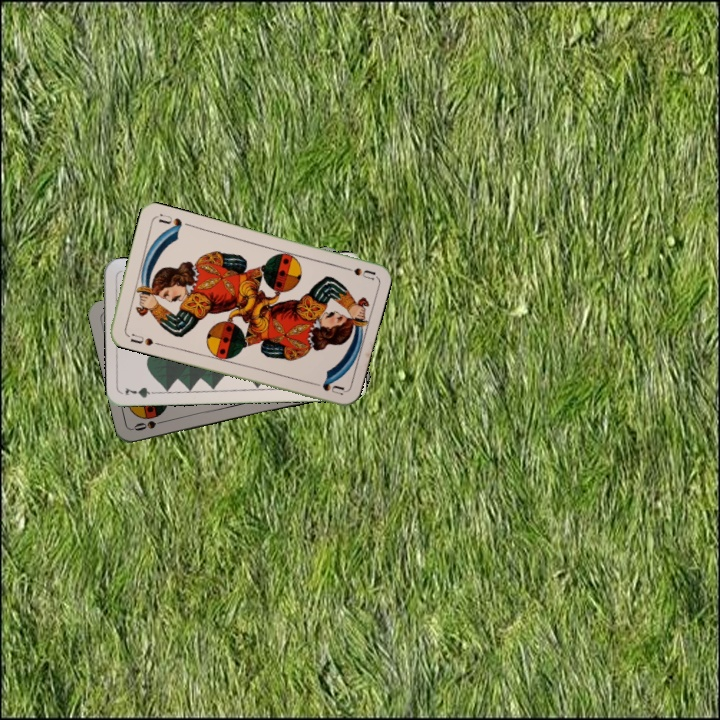G7: (121, 383, 161, 401)
SO: (130, 416, 170, 433)
SU: (336, 262, 377, 282), (126, 330, 156, 348)
